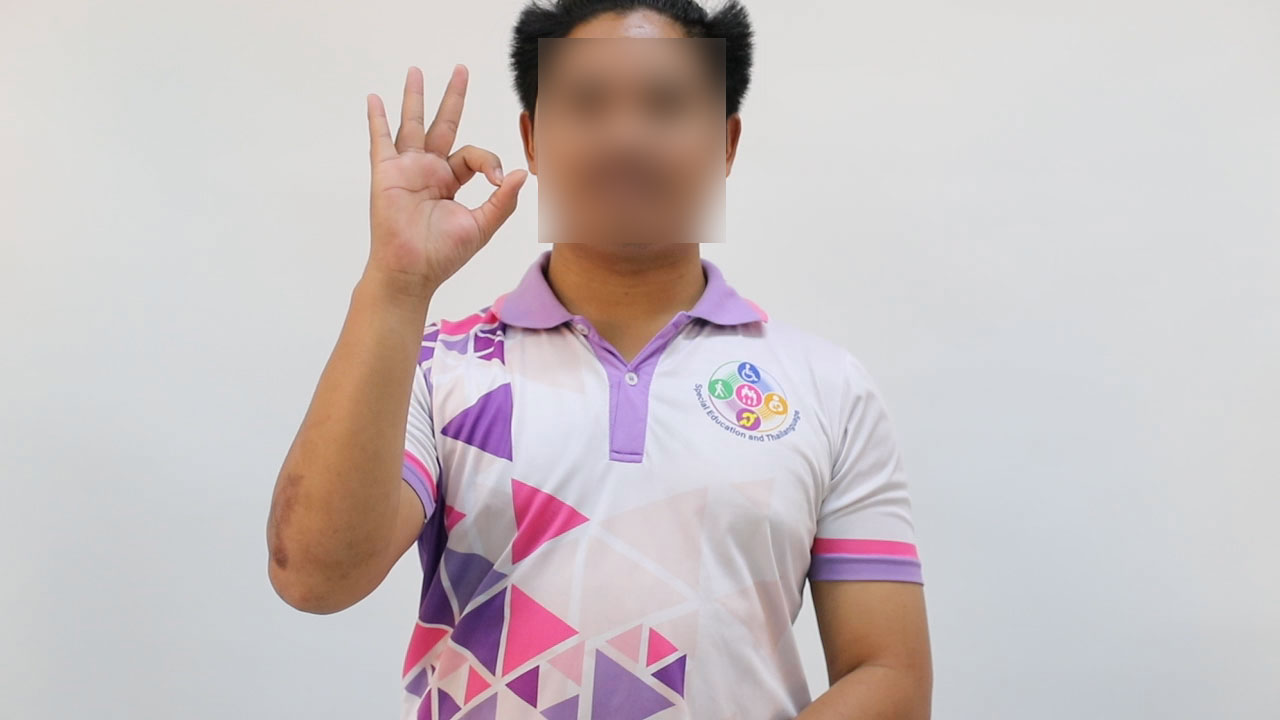for: (334, 51, 534, 312)
